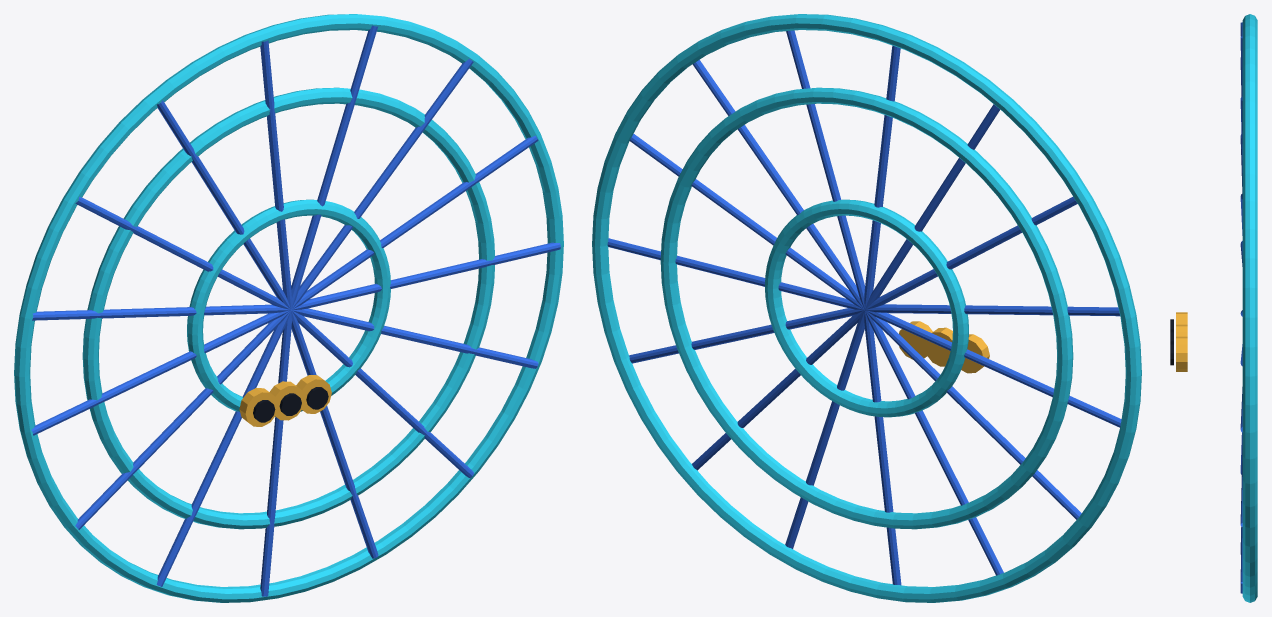
The model's file is 45_L85_NavigationUncertaintyVolumeDisplay.fbx.
The picture shows the model from 3 angles, left to right: view 1: azimuth 30°, elevation 25°; view 2: azimuth 150°, elevation 25°; view 3: azimuth 270°, elevation 25°; orthographic projection. The views are drawn at different scales.
Parts seen in each view (by area): view 1: L85_NavigationUncertaintyVolumeDisplay_Part_0000, L85_NavigationUncertaintyVolumeDisplay_Part_0001, L85_NavigationUncertaintyVolumeDisplay_Part_0002, L85_NavigationUncertaintyVolumeDisplay_Part_0003; view 2: L85_NavigationUncertaintyVolumeDisplay_Part_0000, L85_NavigationUncertaintyVolumeDisplay_Part_0001, L85_NavigationUncertaintyVolumeDisplay_Part_0002; view 3: L85_NavigationUncertaintyVolumeDisplay_Part_0000, L85_NavigationUncertaintyVolumeDisplay_Part_0001, L85_NavigationUncertaintyVolumeDisplay_Part_0007, L85_NavigationUncertaintyVolumeDisplay_Part_0003, L85_NavigationUncertaintyVolumeDisplay_Part_0005.
Boxes of the visible parts, box(x1,y1,x2,y2) form: L85_NavigationUncertaintyVolumeDisplay_Part_0000: box(14, 14, 563, 602); L85_NavigationUncertaintyVolumeDisplay_Part_0001: box(31, 25, 560, 596); L85_NavigationUncertaintyVolumeDisplay_Part_0002: box(291, 308, 538, 368); L85_NavigationUncertaintyVolumeDisplay_Part_0003: box(239, 388, 278, 426); L85_NavigationUncertaintyVolumeDisplay_Part_0000: box(592, 14, 1141, 602); L85_NavigationUncertaintyVolumeDisplay_Part_0001: box(607, 30, 1121, 585); L85_NavigationUncertaintyVolumeDisplay_Part_0002: box(629, 308, 864, 363); L85_NavigationUncertaintyVolumeDisplay_Part_0000: box(1242, 14, 1257, 602); L85_NavigationUncertaintyVolumeDisplay_Part_0001: box(1240, 22, 1242, 593); L85_NavigationUncertaintyVolumeDisplay_Part_0007: box(1176, 336, 1187, 371); L85_NavigationUncertaintyVolumeDisplay_Part_0003: box(1176, 312, 1187, 324); L85_NavigationUncertaintyVolumeDisplay_Part_0005: box(1176, 324, 1187, 336).
Size of the model in its own units: 216 by 215 by 31.96.
